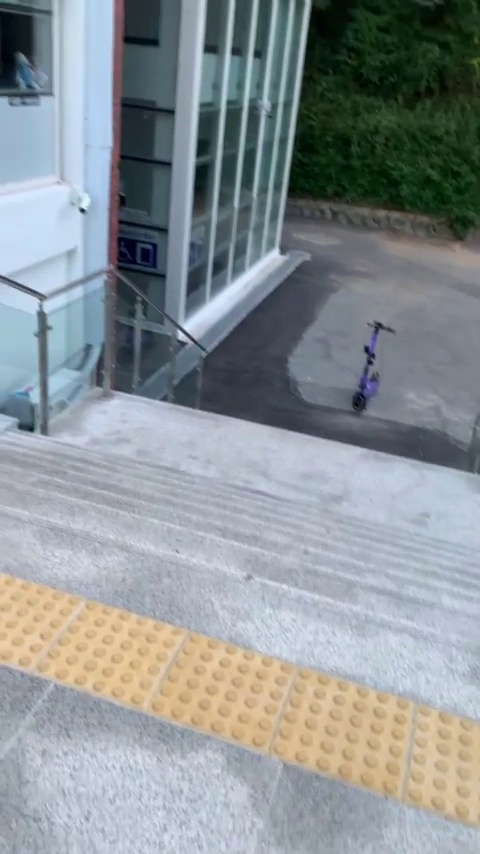beam: (350, 311, 395, 417)
